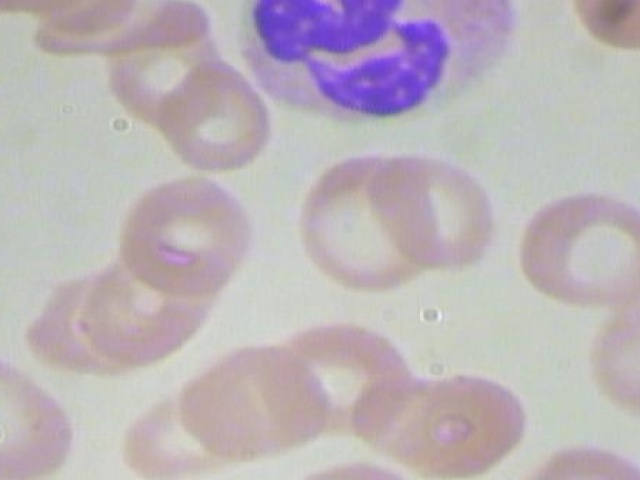RBC: (287, 147, 436, 303), (170, 340, 351, 462), (109, 167, 266, 302), (359, 149, 503, 275), (513, 176, 640, 313), (151, 60, 279, 169), (0, 341, 76, 480), (577, 298, 640, 417), (563, 0, 640, 49)
WBC: (217, 0, 538, 125)
